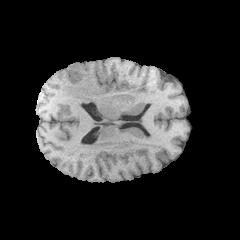glioma: (58, 64, 106, 104)
